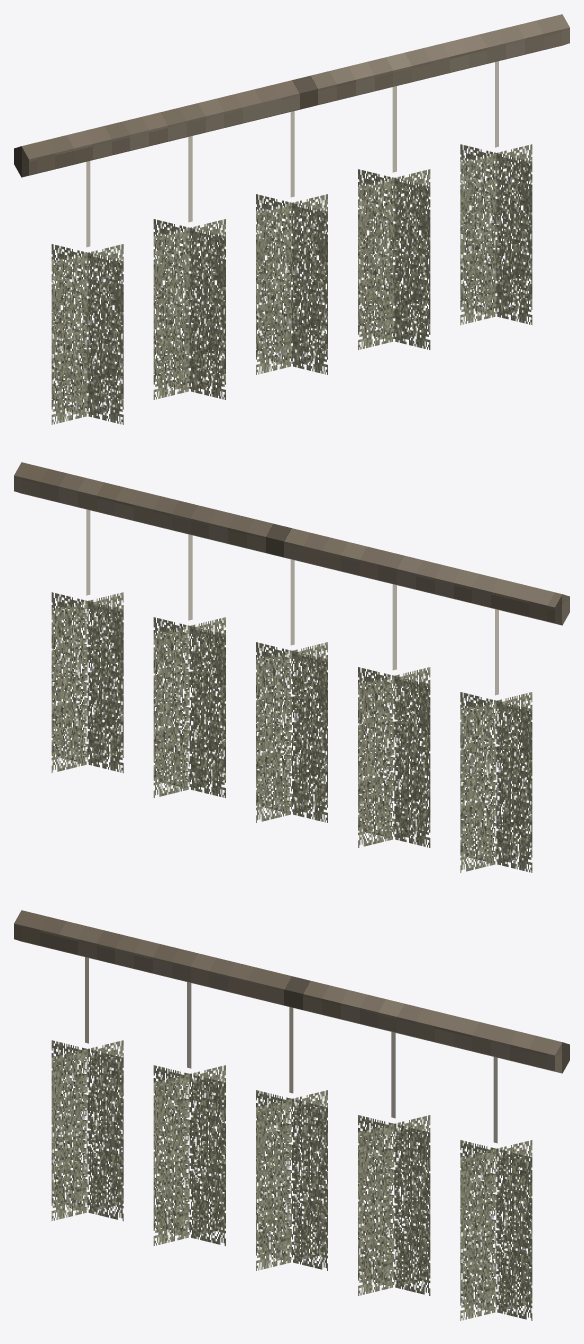
Rendered from herbs_hanging.glb.
The picture shows the model from 3 angles, top to bottom: view 1: azimuth 30°, elevation 25°; view 2: azimuth 150°, elevation 25°; view 3: azimuth 330°, elevation 25°; orthographic projection.
Parts seen in each view (by area): view 1: body; view 2: body; view 3: body.
Boxes of the visible parts, x1=… form: body: x1=14, y1=14, x2=569, y2=424; body: x1=14, y1=462, x2=569, y2=872; body: x1=14, y1=910, x2=569, y2=1320.
Size of the model in its own units: 0.9 by 0.455 by 0.1039.
Materials: 4 (3 with a texture image).
